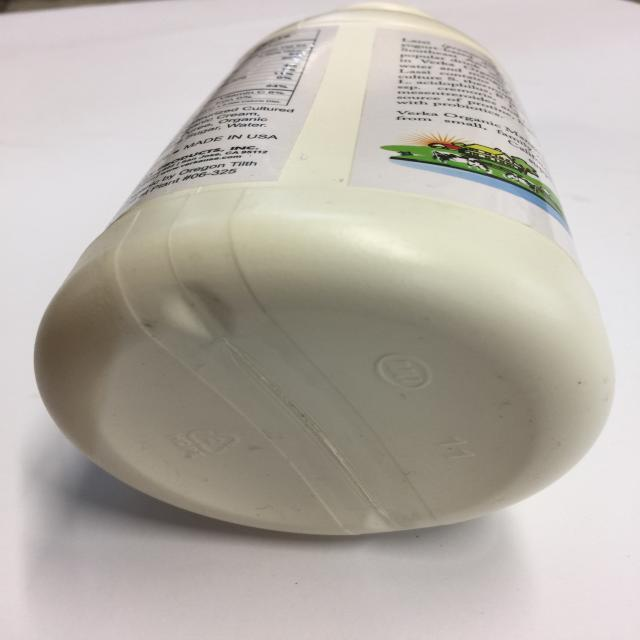plastic: (24, 0, 616, 538)
